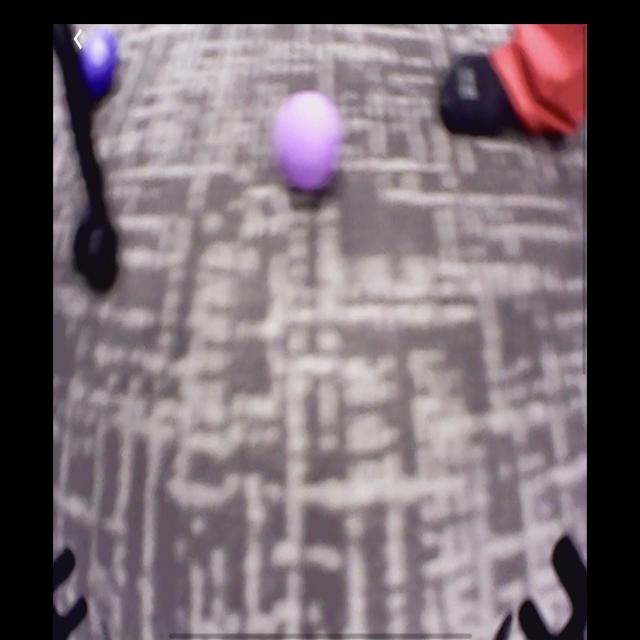ball: (278, 92, 342, 195), (79, 32, 118, 97)
